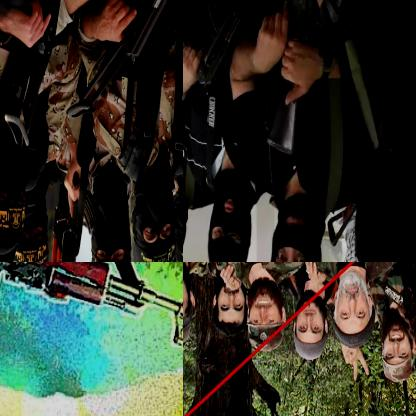rifle: (0, 262, 182, 348), (70, 0, 182, 119), (253, 0, 317, 156), (6, 0, 66, 149), (190, 0, 267, 92), (40, 188, 75, 261), (183, 4, 199, 133)
